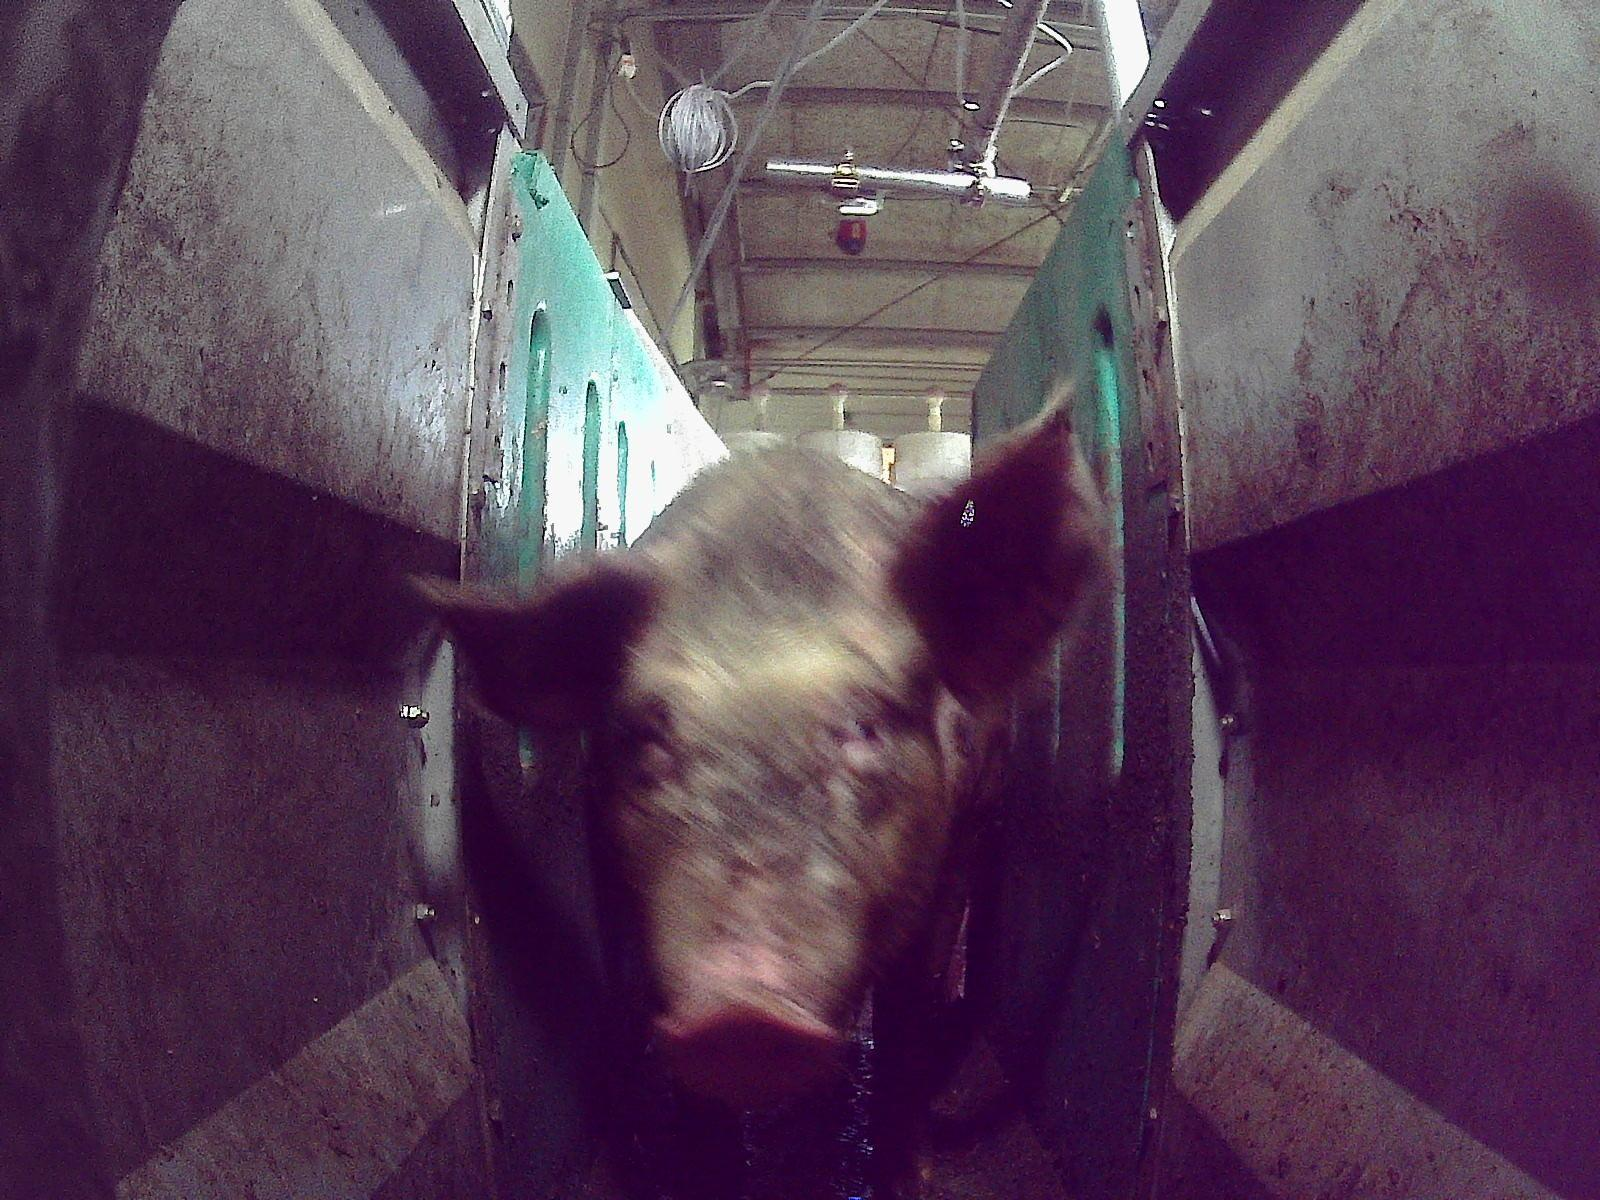Face: (602, 520, 958, 1113)
